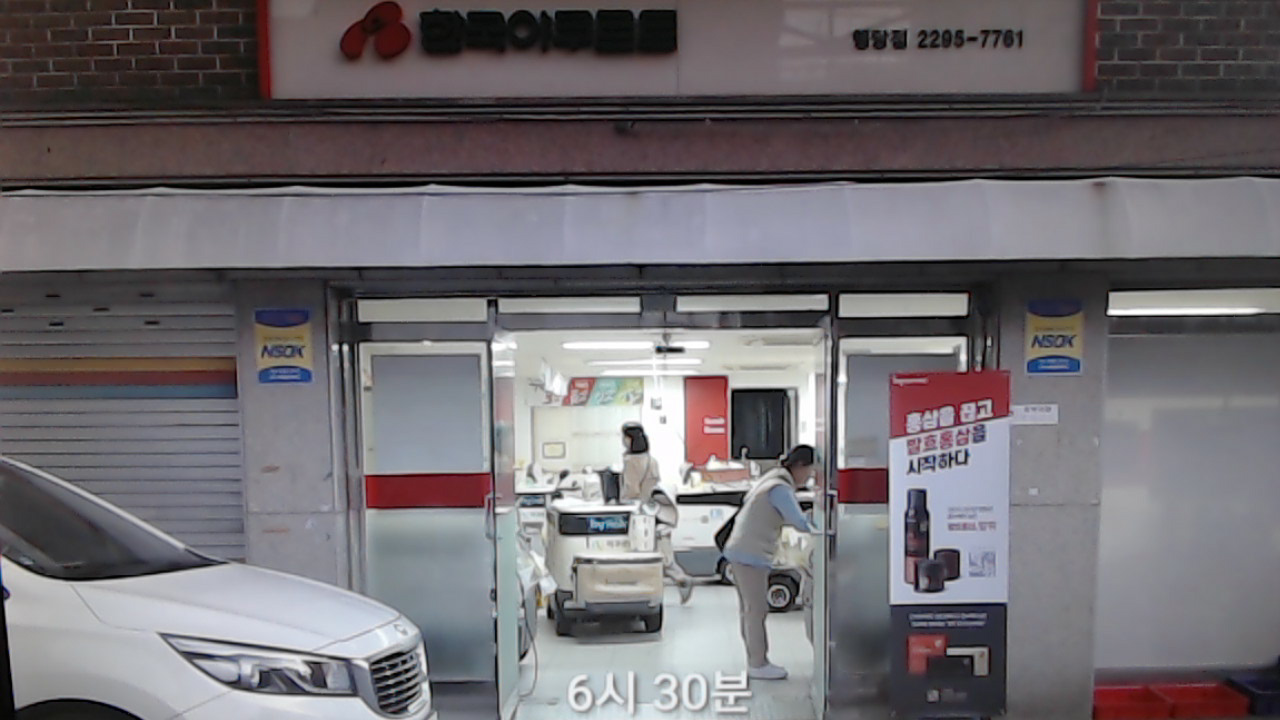Yakurut: (718, 444, 826, 690), (620, 421, 676, 507)
